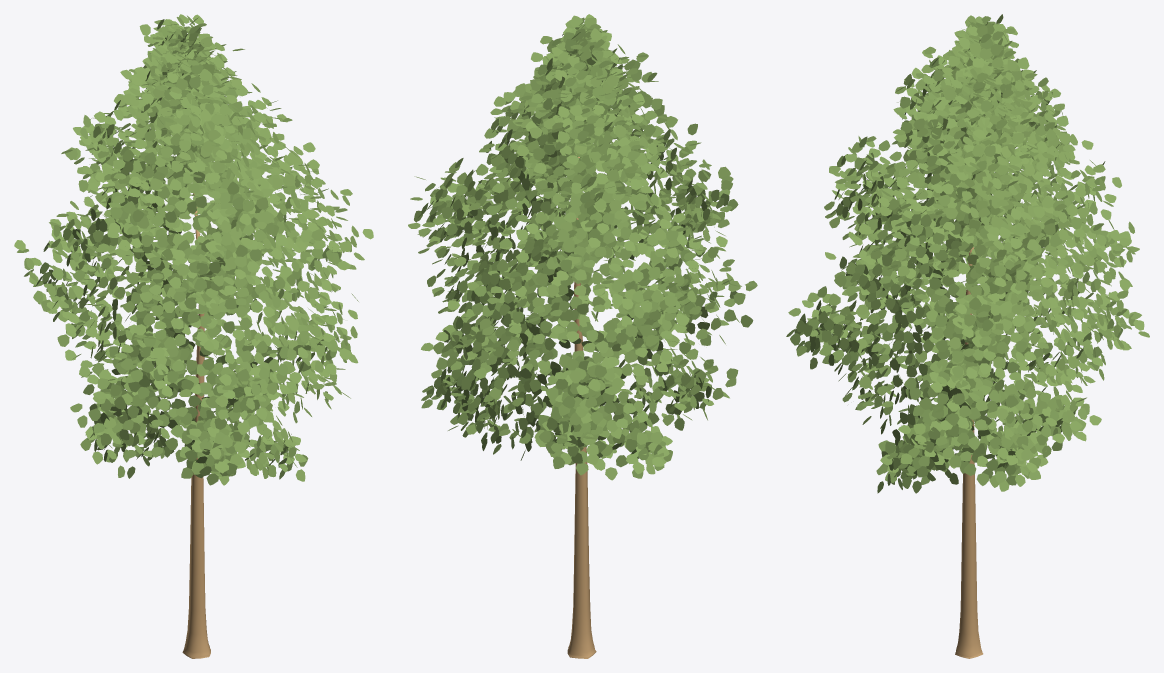
Rendered from real-tree3.glb.
3 renders of one model, left to right at view 1: azimuth 30°, elevation 25°; view 2: azimuth 150°, elevation 25°; view 3: azimuth 270°, elevation 25°, orthographic.
Visible parts, largest first — view 1: leaves2, trunk; view 2: leaves2, trunk; view 3: leaves2, trunk.
Boxes of the visible parts, left/top/right/bottom form: leaves2: left=14, top=14, right=373, bottom=485; trunk: left=182, top=193, right=210, bottom=658; leaves2: left=408, top=14, right=757, bottom=480; trunk: left=567, top=157, right=596, bottom=658; leaves2: left=786, top=14, right=1149, bottom=493; trunk: left=955, top=247, right=983, bottom=658.
Bounding box in the file's own units: 7.54 × 14.87 × 7.82.
